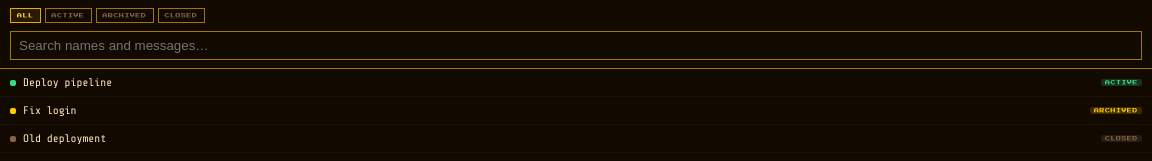
Test: ConversationList › shows message-only matches from older conversations without dropping open tabs
The width and height of the screenshot is (1152, 161).
Type "message text" into the search field with placeholder "Search names and messages…" at (576, 46), box [10,31,1142,60]
Wait 250 ms
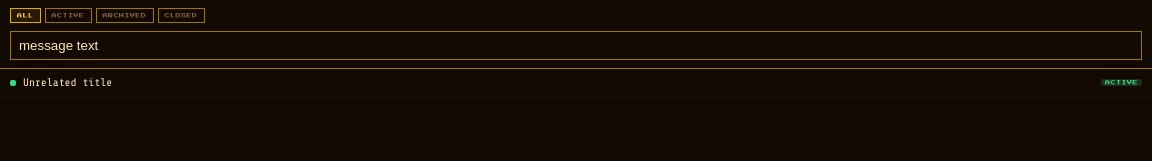
Now the number of elements with class "conversation-row" is 1, box [0,69,1151,97]
Now the text "Unrelated title" is shown, box [23,76,112,89]
